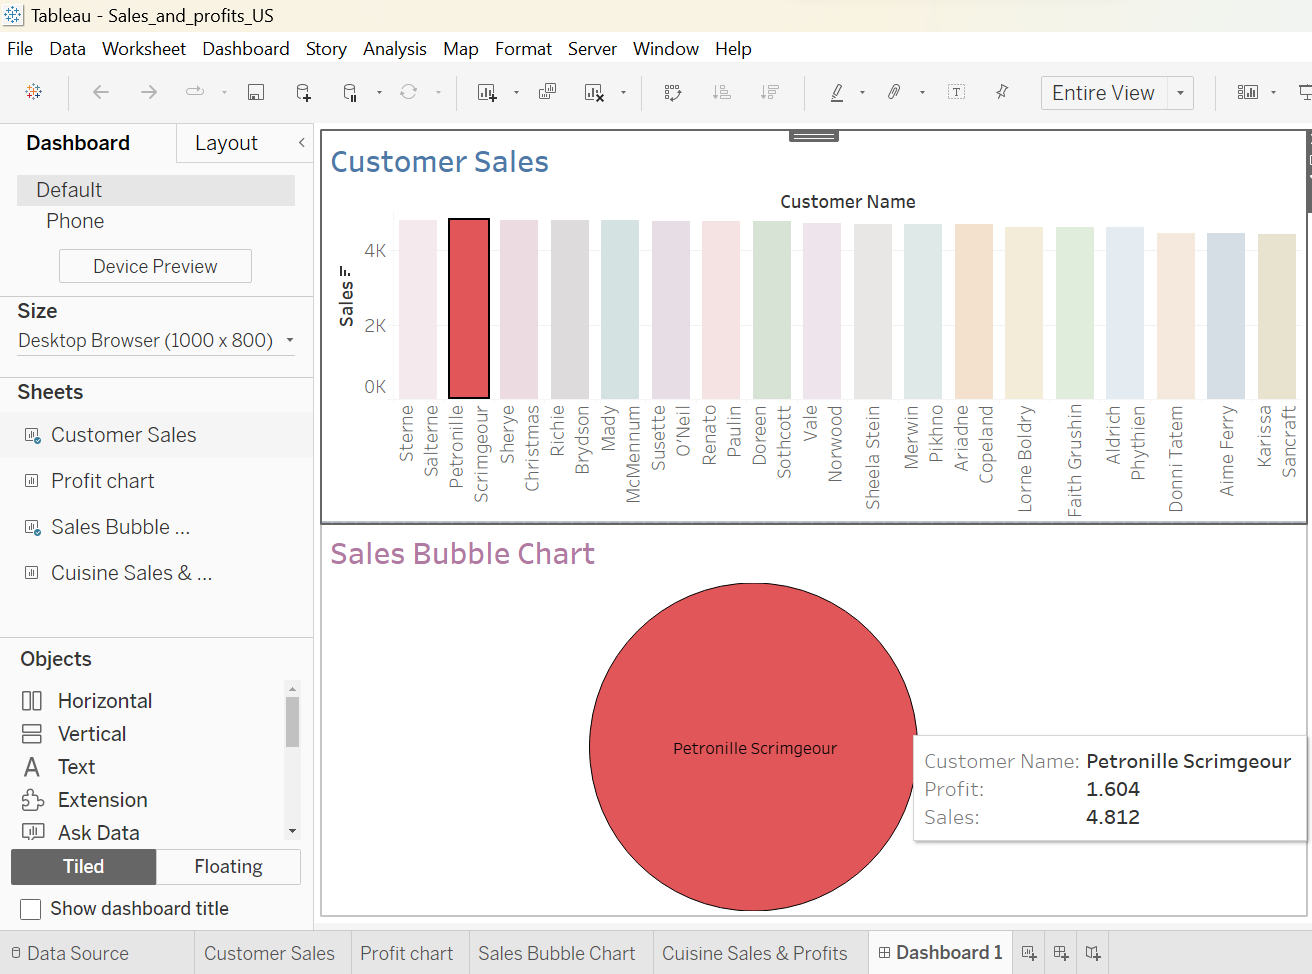

This screenshot's page, from the dashboard's own definition file:
{"tool":"tableau","page":{"name":"Dashboard 1","canvas":[1000,800],"ordinal":0},"visuals":[{"type":"worksheet","title":"Customer Sales","mark":"Automatic","rows":["Sales"],"cols":["CustomerName"],"box":[8,8,984,392]},{"type":"worksheet","title":"Sales Bubble Chart","mark":"Circle","box":[8,400,984,392]}]}

Visuals, with their boxes on the page's 1000x800 design canvas (x1, y1, x2, y2). These are canvas units, not pixel positions in the 1312x974 screenshot, which may show the page scaled, cropped or inside an application window:
"Customer Sales" worksheet: 8/8/992/400
"Sales Bubble Chart" worksheet (Circle marks): 8/400/992/792
